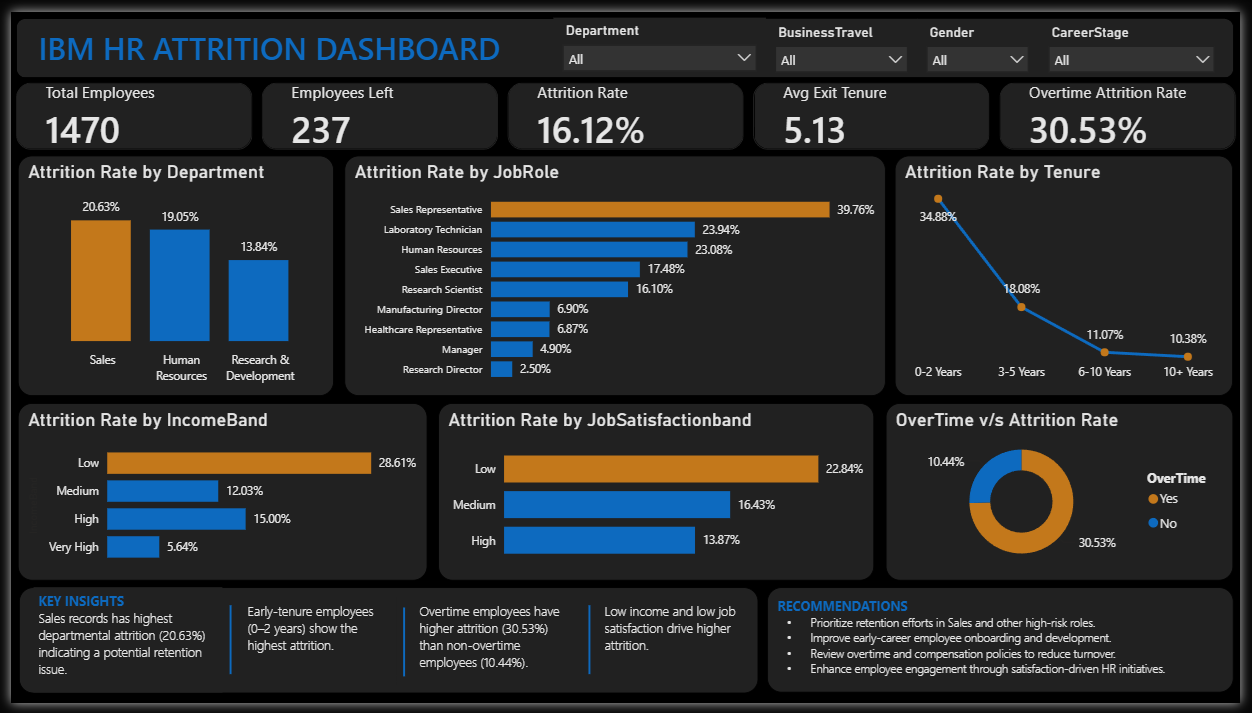

Layout of this report page (visuals, bound fields, positions):
{"tool":"powerbi","page":{"name":"Page 2","canvas":[1280,720],"ordinal":1},"visuals":[{"type":"cardVisual","fields":{"Data":["Sum(AllMeasures.Total Employees)","Sum(AllMeasures.Employees Left)","Sum(AllMeasures.Total Attrition Rate)","AllMeasures.Average Tenure of Employees Who Left","AllMeasures.Overtime Attrition Rate"]},"box":[0,68,1280,80],"z":0},{"type":"shape","box":[5.6,6.7,1266.7,61.1],"z":1000},{"type":"textbox","box":[23.3,10.1,512.2,53.7],"z":2000},{"type":"clusteredColumnChart","fields":{"Category":["vw_EmployeeAttritionAnalytics.Department"],"Y":["AllMeasures.Attrition Rate"]},"box":[7.1,149.4,329.4,250.6],"z":3000},{"type":"clusteredBarChart","fields":{"Y":["AllMeasures.Attrition Rate"],"Category":["vw_EmployeeAttritionAnalytics.JobRole"]},"box":[346.5,149.4,563.5,250.6],"z":4000},{"type":"lineChart","title":"Attrition Rate by Tenure","fields":{"Y":["AllMeasures.Attrition Rate"],"Category":["vw_EmployeeAttritionAnalytics.ExperienceBand"]},"box":[920.2,149.8,352.3,250],"z":5000},{"type":"donutChart","title":"OverTime v/s Attrition Rate ","fields":{"Y":["AllMeasures.Attrition Rate"],"Category":["vw_EmployeeAttritionAnalytics.OverTime"]},"box":[910.6,407.1,362.4,184.7],"z":6000},{"type":"clusteredBarChart","fields":{"Category":["vw_EmployeeAttritionAnalytics.IncomeBand"],"Y":["AllMeasures.Attrition Rate"]},"box":[7.5,407.5,426.2,185],"z":7000},{"type":"clusteredBarChart","fields":{"Category":["vw_EmployeeAttritionAnalytics.JobSatisfactionband"],"Y":["AllMeasures.Attrition Rate"]},"box":[445.1,407.1,454.1,184.7],"z":8000},{"type":"textbox","box":[8.1,599.3,770.3,110.3],"z":9000},{"type":"textbox","box":[786.5,599.3,485.9,109.3],"z":10000},{"type":"slicer","fields":{"Values":["vw_EmployeeAttritionAnalytics.BusinessTravel"]},"box":[786.2,7.5,157.5,60],"z":11000},{"type":"slicer","fields":{"Values":["vw_EmployeeAttritionAnalytics.Department"]},"box":[565,6.2,221.2,61.2],"z":12000},{"type":"slicer","fields":{"Values":["vw_EmployeeAttritionAnalytics.Gender"]},"box":[943.8,7.5,126.2,60],"z":13000},{"type":"slicer","fields":{"Values":["vw_EmployeeAttritionAnalytics.CareerStage"]},"box":[1070,7.5,192.5,60],"z":14000},{"type":"textbox","box":[23.3,598.9,196.7,110],"z":15000},{"type":"textbox","box":[240.9,609.4,159.9,91.1],"z":16000},{"type":"textbox","box":[612.4,609.4,158.9,90.1],"z":17000},{"type":"textbox","box":[420.1,609.4,163,90.1],"z":18000},{"type":"shape","box":[219.7,617.5,17.2,71.9],"z":19000},{"type":"shape","box":[400.9,619.5,16.2,71.9],"z":20000},{"type":"shape","box":[594.2,617.5,16.2,71.9],"z":21000}]}

Visuals, with their boxes in screenshot pixels (x1, y1, x2, y2), scaled from the page's 1280x720 canvas onto the 1252x713 screenshot:
cardVisual - Sum(AllMeasures.Total Employees) x Sum(AllMeasures.Employees Left): pyautogui.locateOnScreen(0, 67, 1251, 147)
shape: pyautogui.locateOnScreen(5, 7, 1244, 67)
textbox: pyautogui.locateOnScreen(23, 10, 524, 63)
clusteredColumnChart - vw_EmployeeAttritionAnalytics.Department x AllMeasures.Attrition Rate: pyautogui.locateOnScreen(7, 148, 329, 396)
clusteredBarChart - AllMeasures.Attrition Rate x vw_EmployeeAttritionAnalytics.JobRole: pyautogui.locateOnScreen(339, 148, 890, 396)
"Attrition Rate by Tenure" lineChart: pyautogui.locateOnScreen(900, 148, 1245, 396)
"OverTime v/s Attrition Rate " donutChart: pyautogui.locateOnScreen(891, 403, 1245, 586)
clusteredBarChart - vw_EmployeeAttritionAnalytics.IncomeBand x AllMeasures.Attrition Rate: pyautogui.locateOnScreen(7, 404, 424, 587)
clusteredBarChart - vw_EmployeeAttritionAnalytics.JobSatisfactionband x AllMeasures.Attrition Rate: pyautogui.locateOnScreen(435, 403, 880, 586)
textbox: pyautogui.locateOnScreen(8, 593, 761, 703)
textbox: pyautogui.locateOnScreen(769, 593, 1245, 702)
slicer - vw_EmployeeAttritionAnalytics.BusinessTravel: pyautogui.locateOnScreen(769, 7, 923, 67)
slicer - vw_EmployeeAttritionAnalytics.Department: pyautogui.locateOnScreen(553, 6, 769, 67)
slicer - vw_EmployeeAttritionAnalytics.Gender: pyautogui.locateOnScreen(923, 7, 1047, 67)
slicer - vw_EmployeeAttritionAnalytics.CareerStage: pyautogui.locateOnScreen(1047, 7, 1235, 67)
textbox: pyautogui.locateOnScreen(23, 593, 215, 702)
textbox: pyautogui.locateOnScreen(236, 603, 392, 694)
textbox: pyautogui.locateOnScreen(599, 603, 754, 693)
textbox: pyautogui.locateOnScreen(411, 603, 570, 693)
shape: pyautogui.locateOnScreen(215, 611, 232, 683)
shape: pyautogui.locateOnScreen(392, 613, 408, 685)
shape: pyautogui.locateOnScreen(581, 611, 597, 683)
